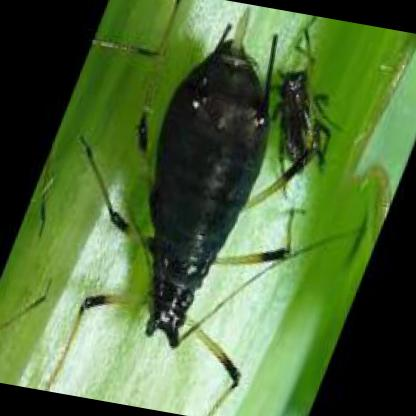uroleucon compositae: (144, 11, 313, 350)
